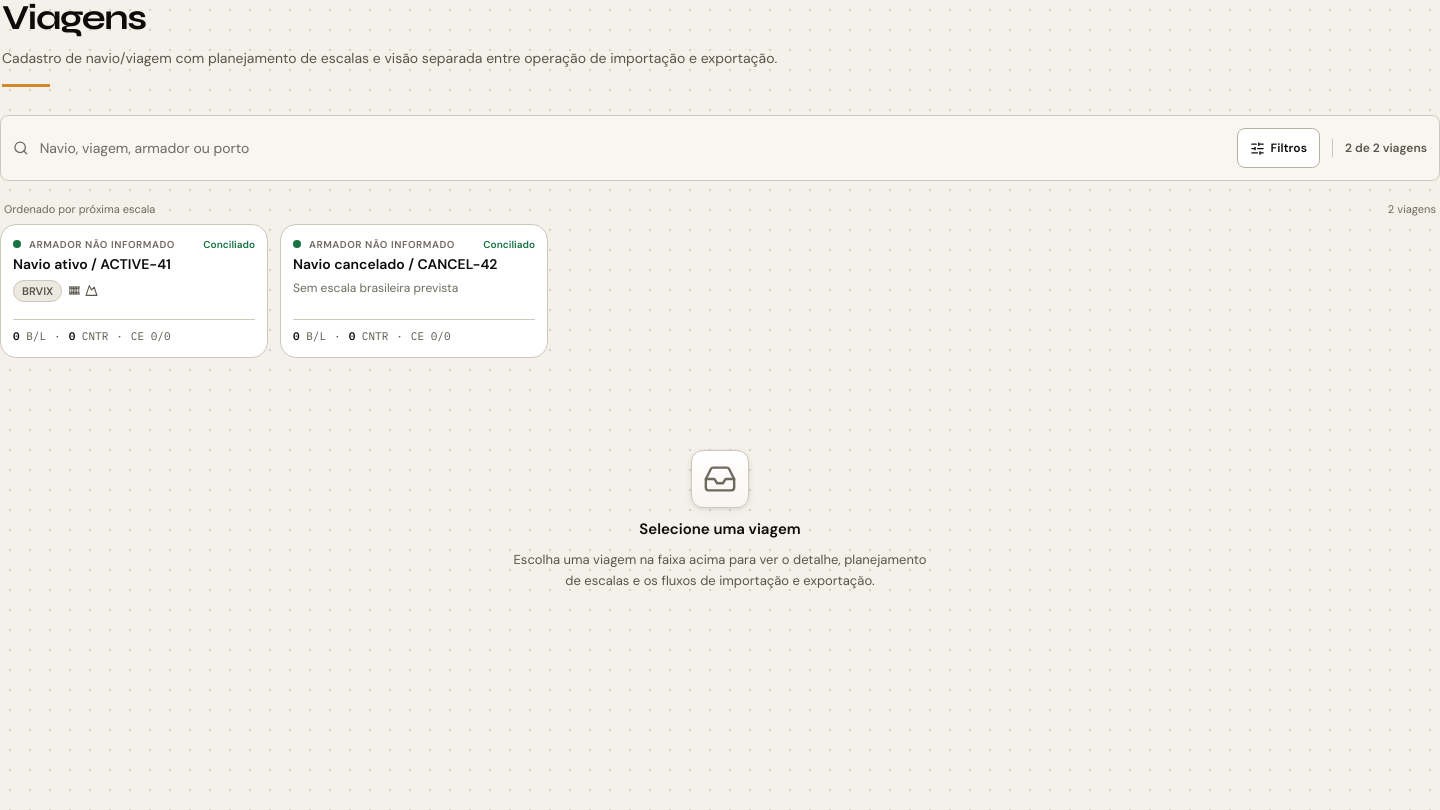
Test: seleciona a viagem pelo id do item do rail
Click the text "Navio cancelado / CANCEL-42". click: (395, 264)
box: [293,254,497,274]
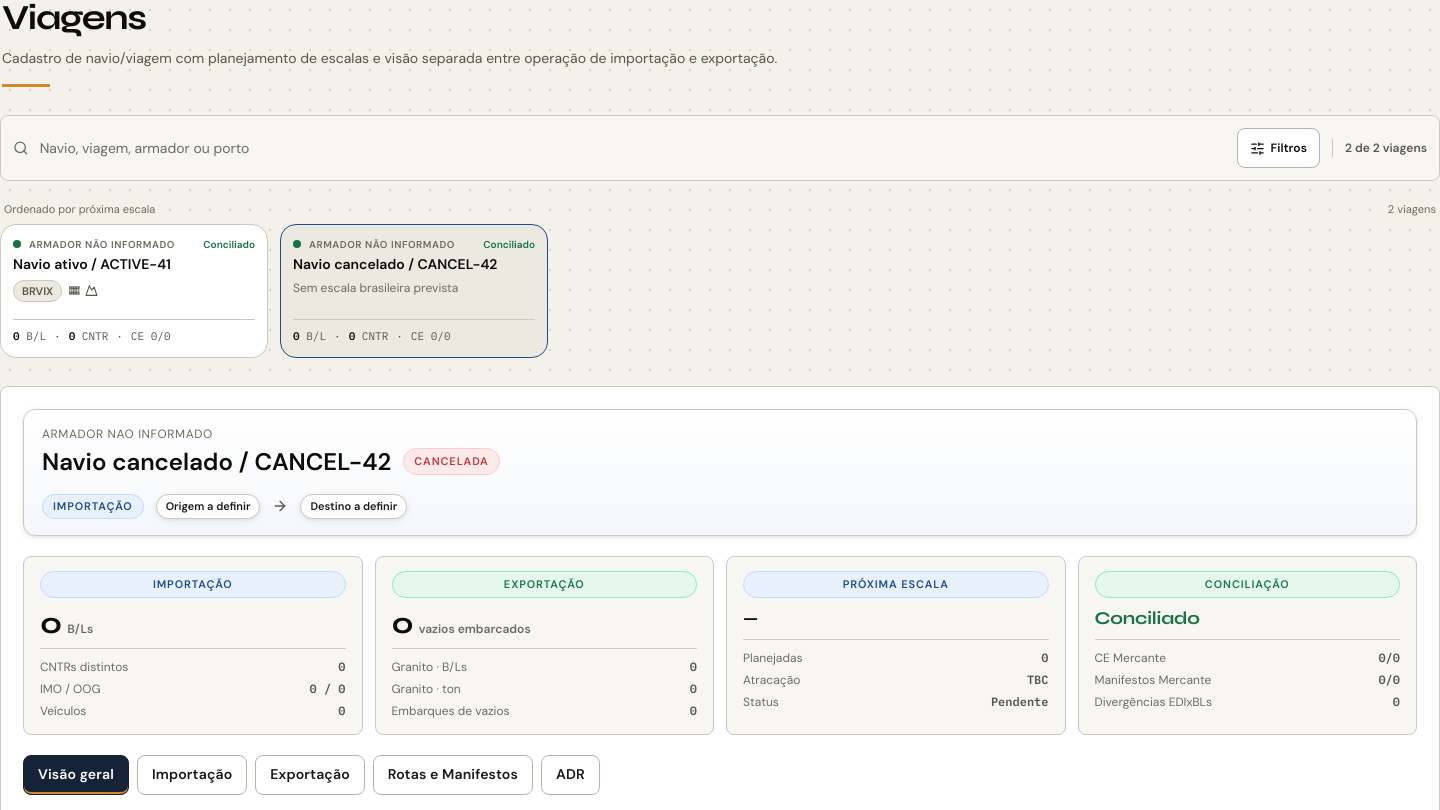
Expected: the heading "Navio cancelado / CANCEL-42" is shown, [42,446,391,478]
